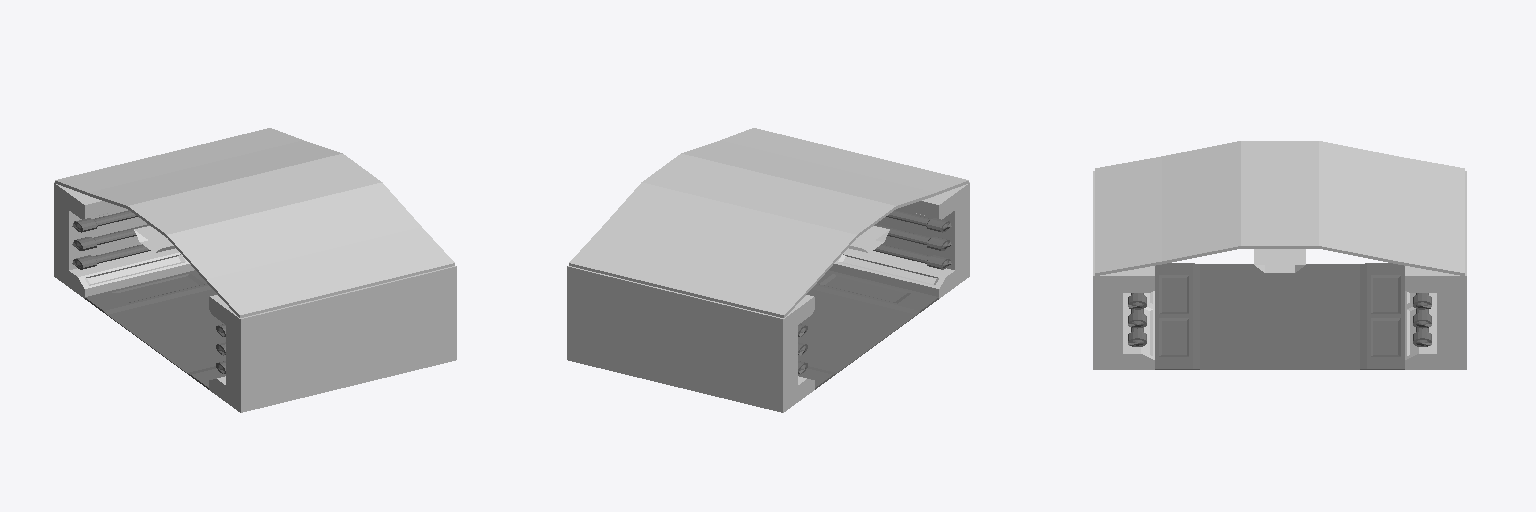
Rendered from pasillo1.obj.
The picture shows the model from 3 angles: view 1: azimuth 30°, elevation 25°; view 2: azimuth 150°, elevation 25°; view 3: azimuth 270°, elevation 25°; orthographic projection.
Parts seen in each view (by area): view 1: pasillo1:polySurface1; view 2: pasillo1:polySurface1; view 3: pasillo1:polySurface1.
Part boxes in pixels (x1,y1,x2,y2): pasillo1:polySurface1: (54,128,456,412); pasillo1:polySurface1: (567,128,969,412); pasillo1:polySurface1: (1093,141,1466,369).
Size of the model in its own units: 403 by 220 by 600.